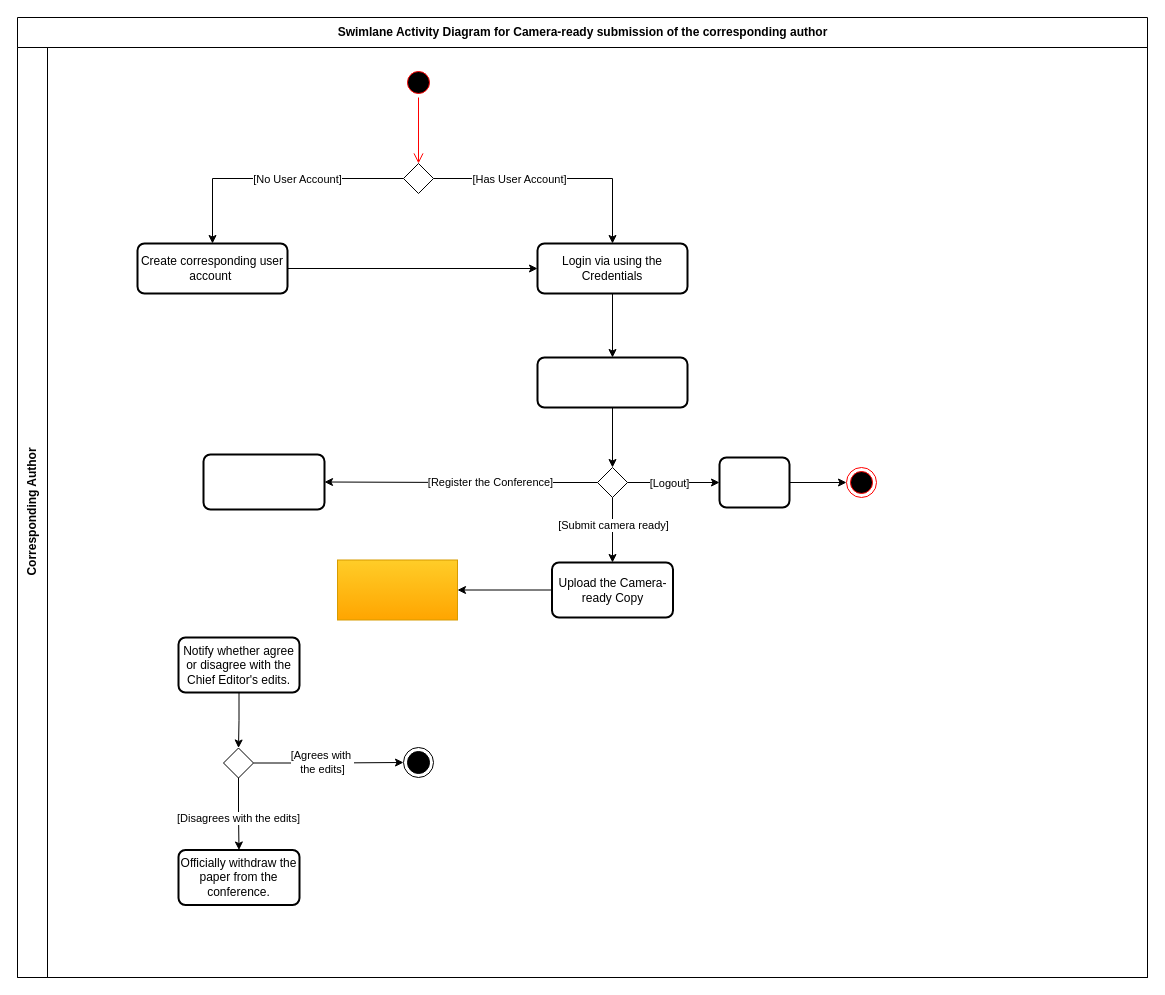
Image size: 1165x995. Some labels were removed from this diagram. Each missing label, with the centre of its shape:
"Camera-ready Submission Complete Email" belongs at [397,589].
"Logout" belongs at [754,482].
"Register by making payment." belongs at [263,481].
"View Dashboard" belongs at [612,382].
